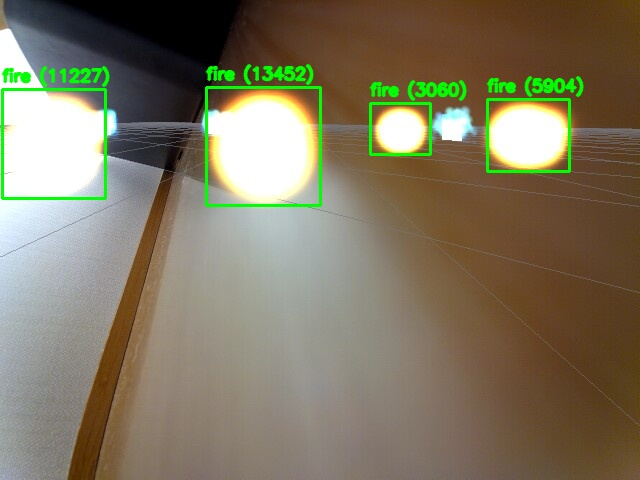fire: (206, 87, 320, 205), (2, 89, 105, 198), (487, 99, 569, 171), (370, 103, 430, 154)
